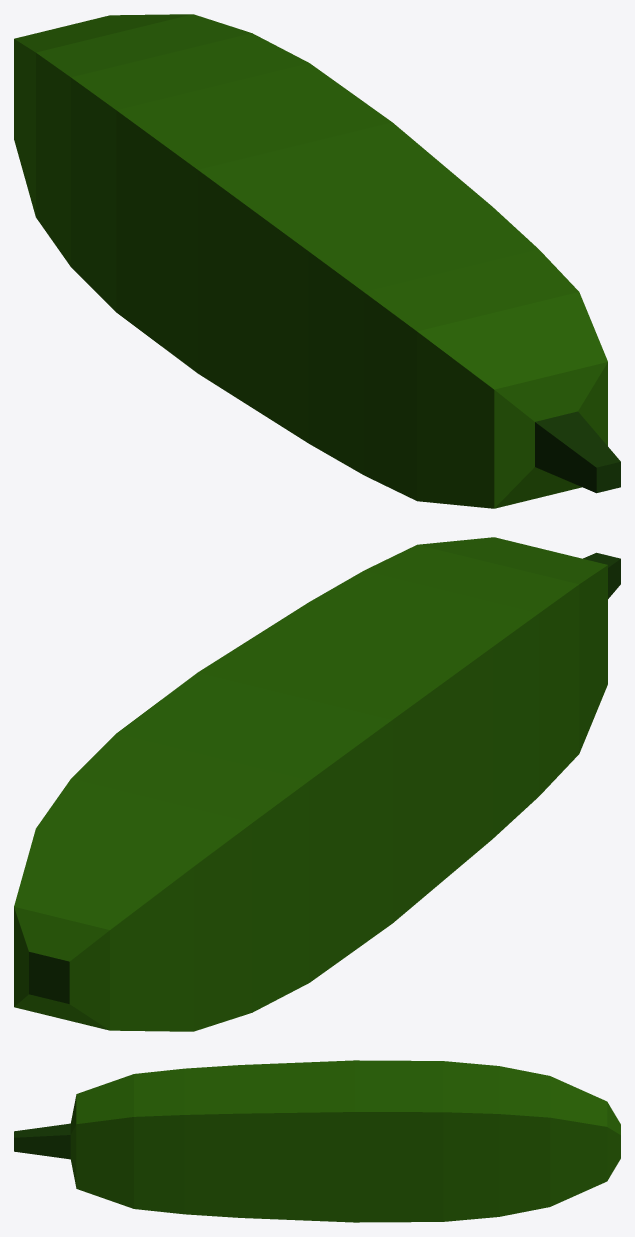
File: cucumber.fbx
The picture shows the model from 3 angles, top to bottom: view 1: azimuth 30°, elevation 25°; view 2: azimuth 150°, elevation 25°; view 3: azimuth 270°, elevation 25°; orthographic projection. The views are drawn at different scales.
Visible parts, largest first — view 1: Cucumber; view 2: Cucumber; view 3: Cucumber.
Part boxes in pixels (box(x1,y1,x2,y2)): Cucumber: box(14, 14, 620, 508); Cucumber: box(14, 537, 620, 1031); Cucumber: box(14, 1060, 620, 1222).
Size of the model in its own units: 136 by 136 by 676.
